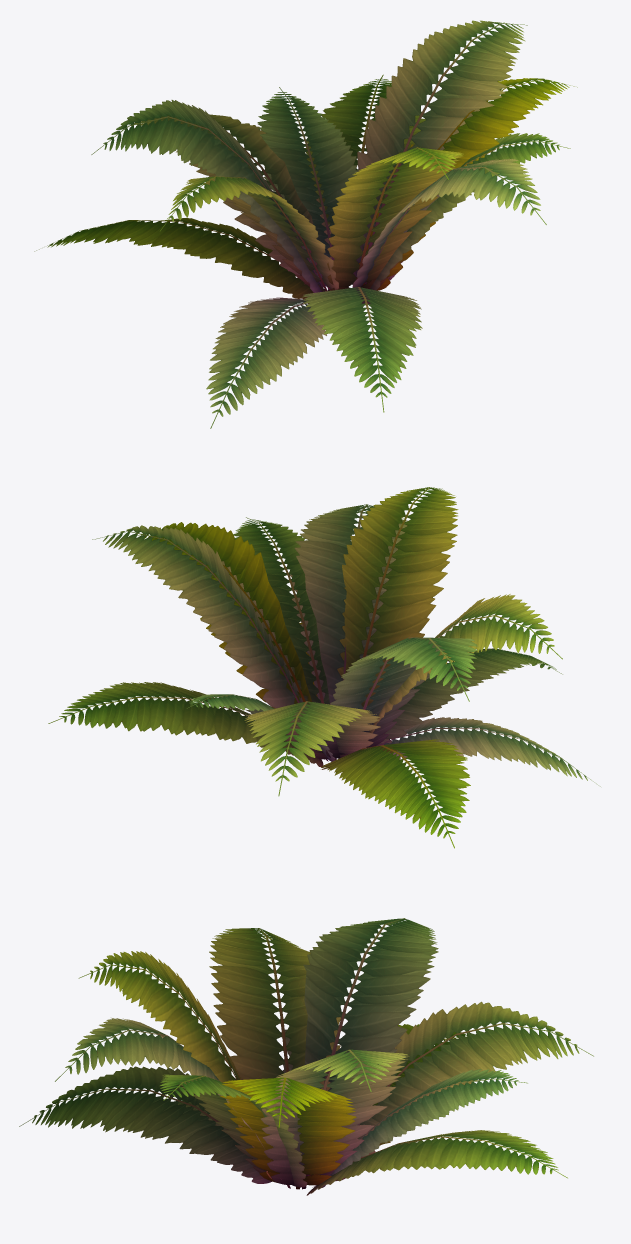
Rendered from helecho_suelo.glb.
The picture shows the model from 3 angles, top to bottom: view 1: azimuth 30°, elevation 25°; view 2: azimuth 150°, elevation 25°; view 3: azimuth 270°, elevation 25°; orthographic projection. The views are drawn at different scales.
Parts seen in each view (by area): view 1: helecho_suelo; view 2: helecho_suelo; view 3: helecho_suelo.
Part boxes in pixels (x1,y1,x2,y2): helecho_suelo: (34,20,577,428); helecho_suelo: (48,487,600,848); helecho_suelo: (19,918,593,1195).
Size of the model in its own units: 1.53 by 0.7687 by 1.55.
Materials: 1 (1 with a texture image).
